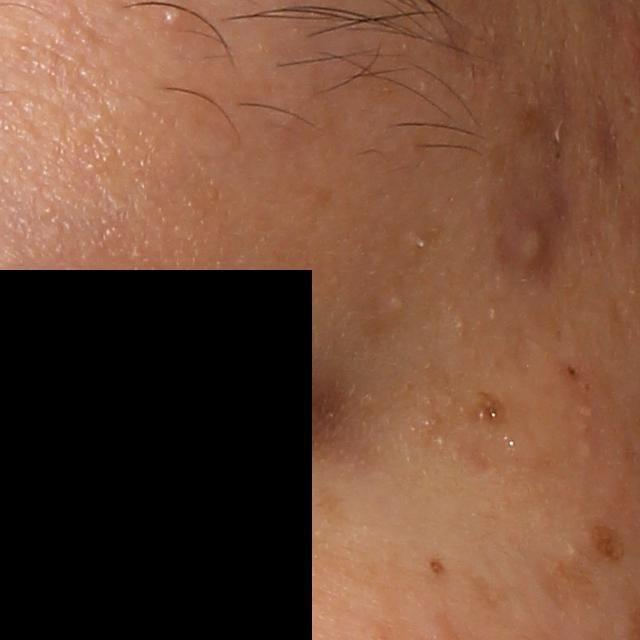comedo: (383, 289, 408, 318)
melasma: (533, 552, 607, 608), (588, 521, 628, 564), (471, 389, 505, 424)
nevus: (428, 556, 447, 578)
